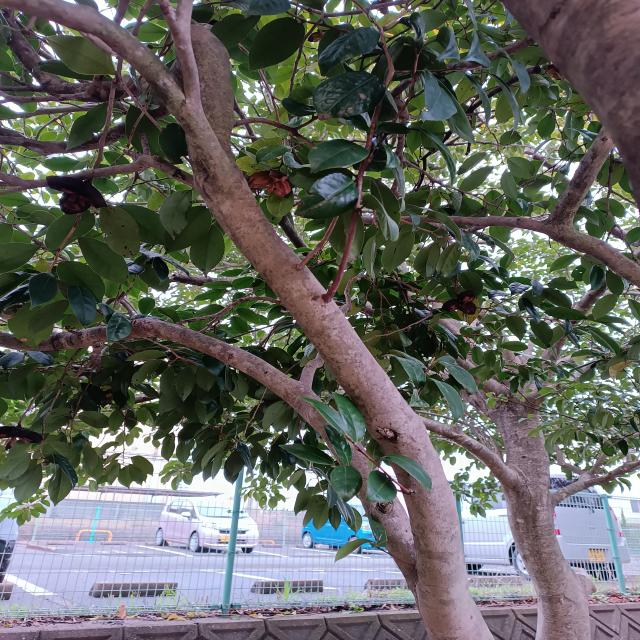Branch: (170, 20, 499, 640), (0, 319, 411, 585)
Twig: (0, 0, 227, 180), (0, 154, 196, 190), (159, 0, 198, 99)
